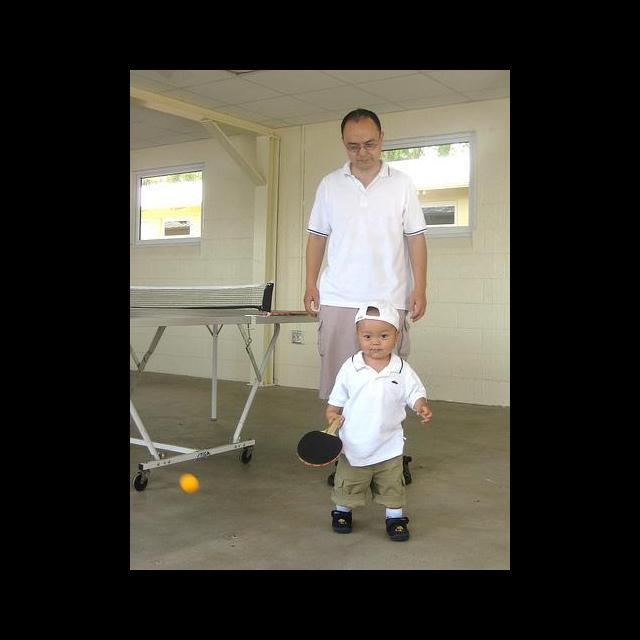ping-pong-ball: (180, 472, 200, 492)
